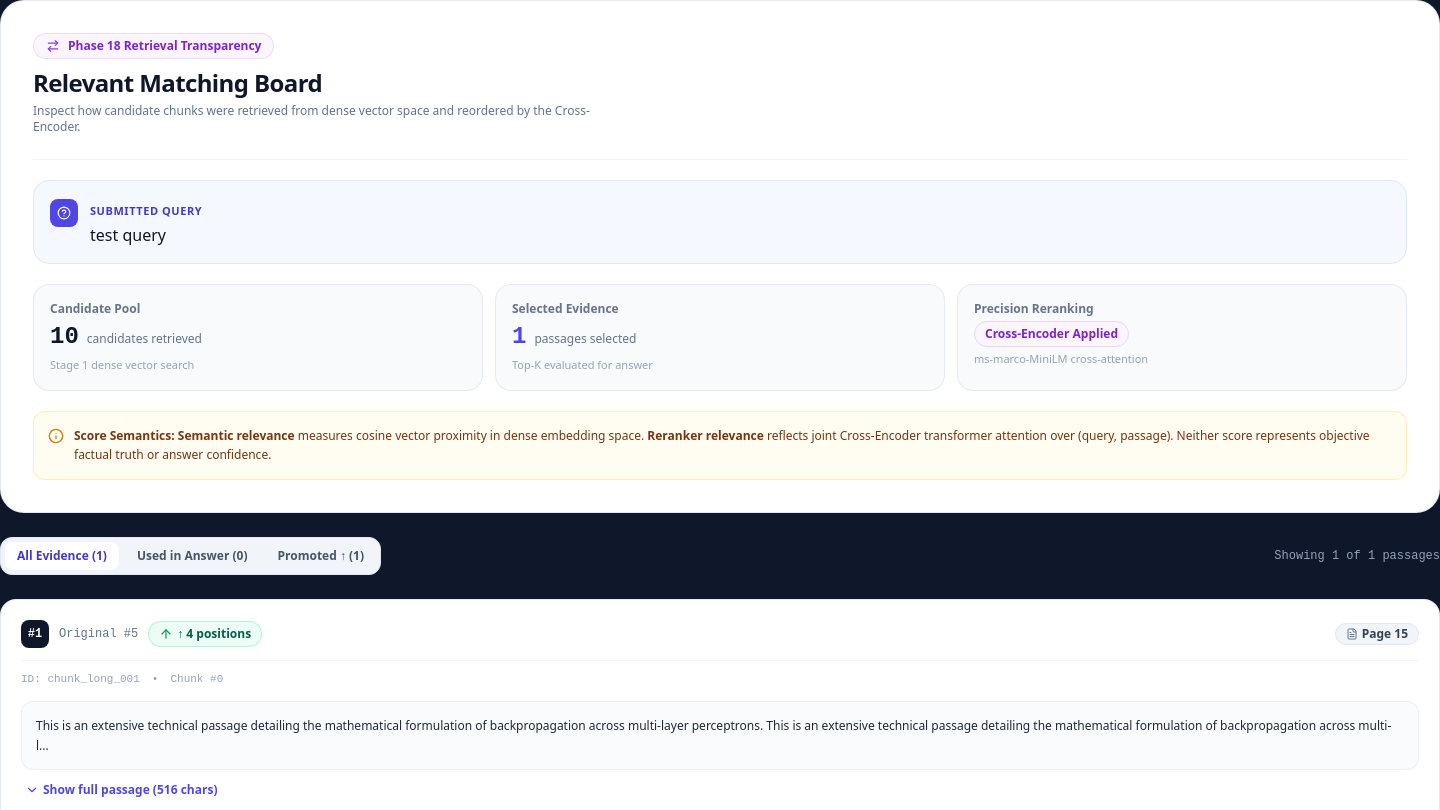
Test: Phase 18 — Matching Board & Retrieval Transparency Tests › 10. Expand and collapse works on long passage text
Click to expand
Click the button "Show full passage (516 chars)".
click(121, 790)  # box [21,778,222,802]
(page scrolled)
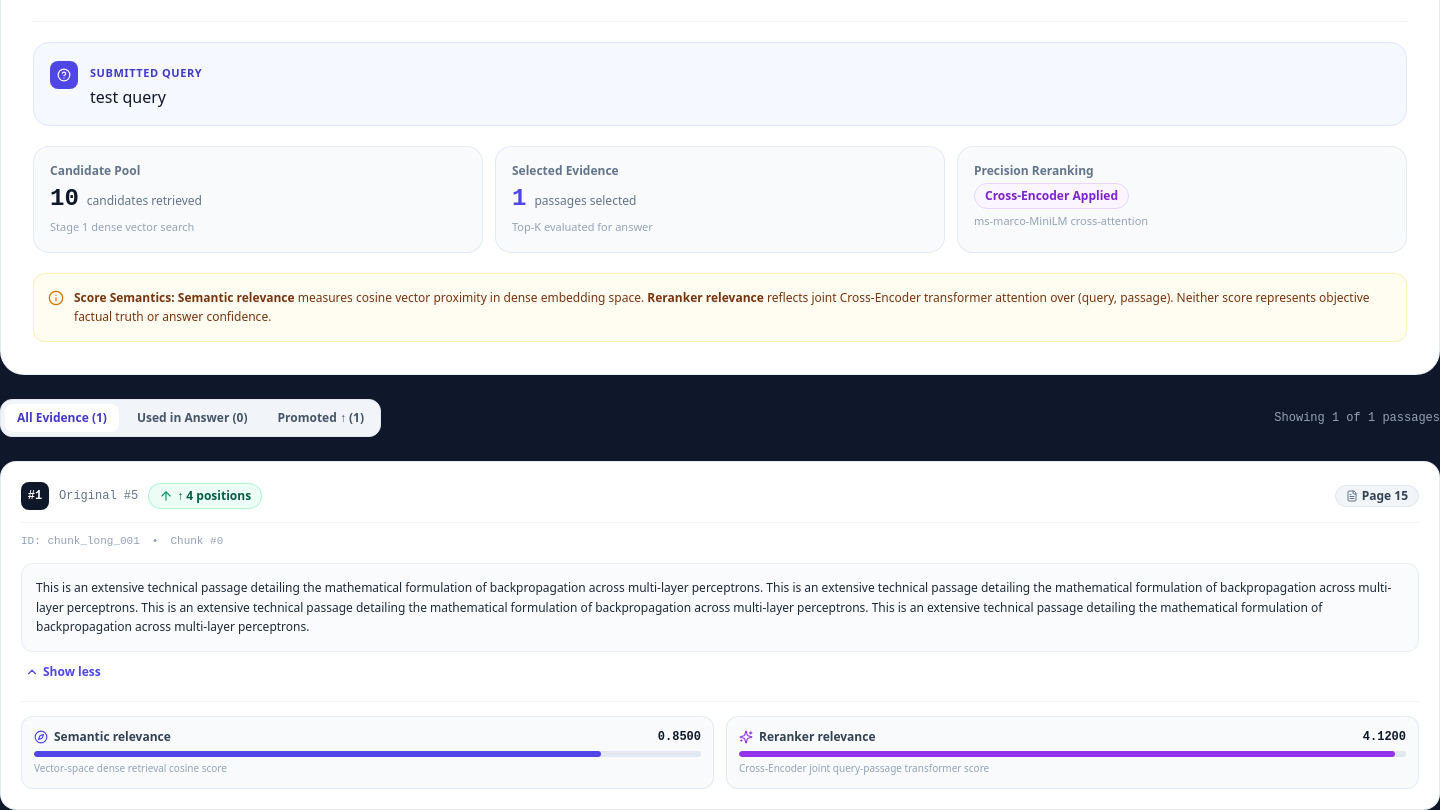
Expected: the button "Show less" is expanded
Click to collapse
Click the button "Show less".
click(63, 672)  # box [21,660,105,684]
(page scrolled)
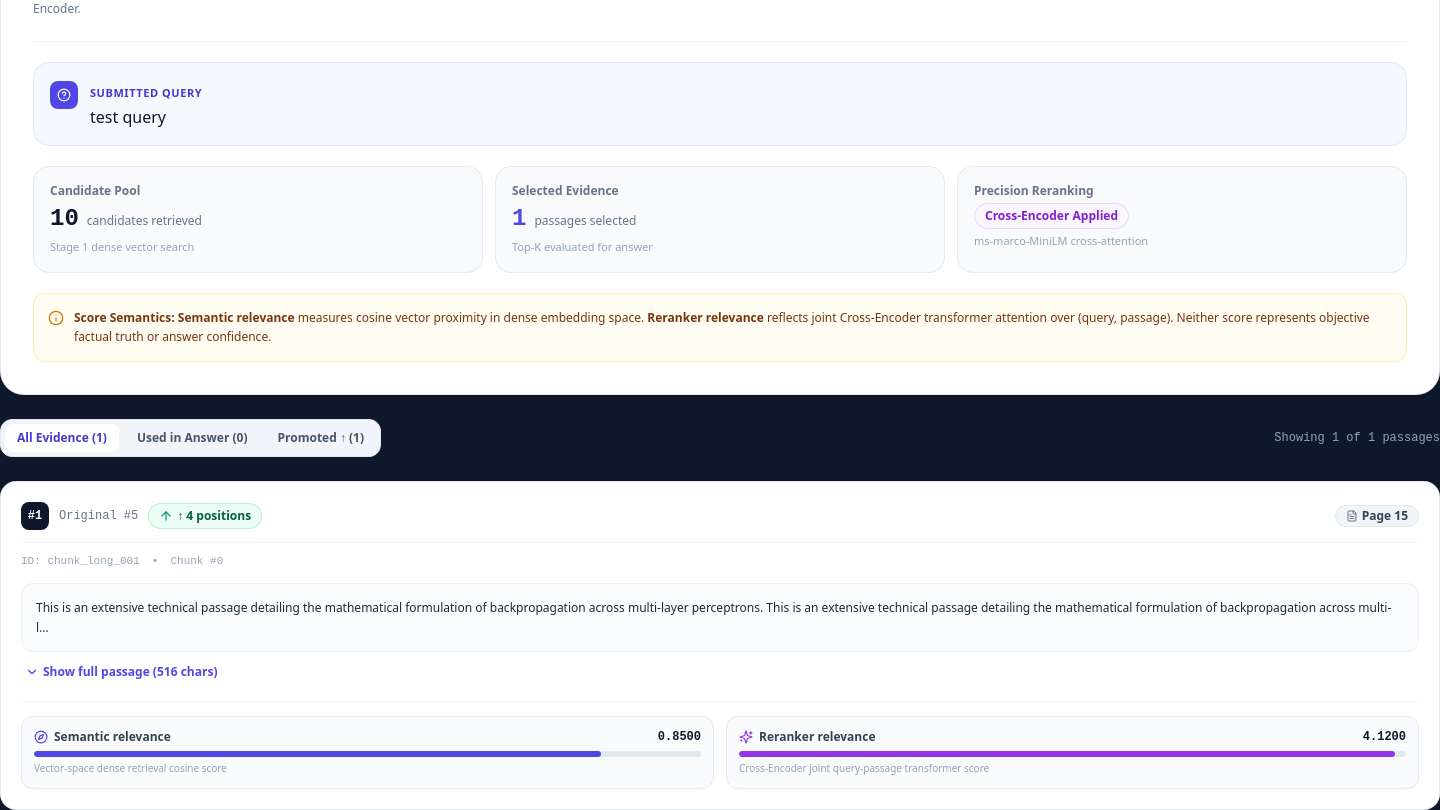
Expected: the button "Show full passage (516 chars)" is collapsed, [21,660,222,684]
